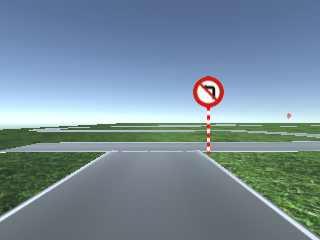-5: (1, 191, 320, 240)
NoLeft: (192, 76, 225, 108)
